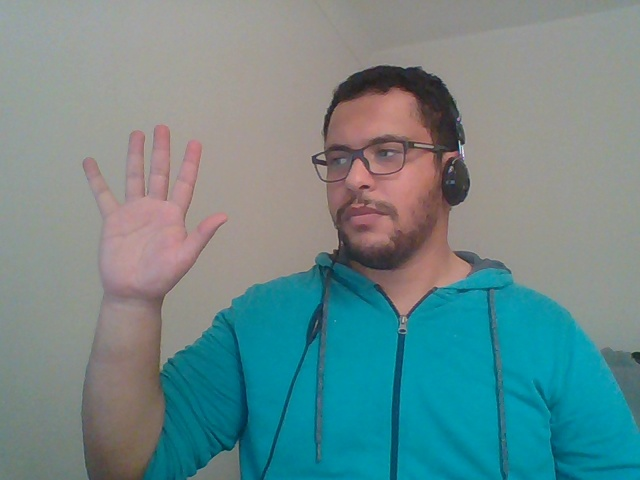hello: (61, 120, 252, 359)
